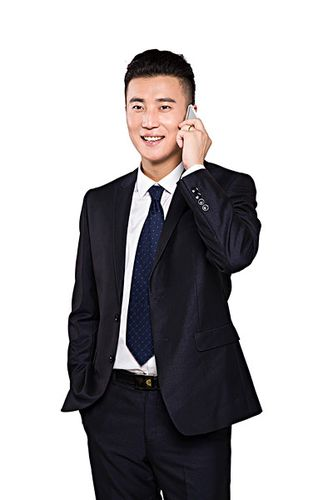calling: (175, 103, 214, 167)
